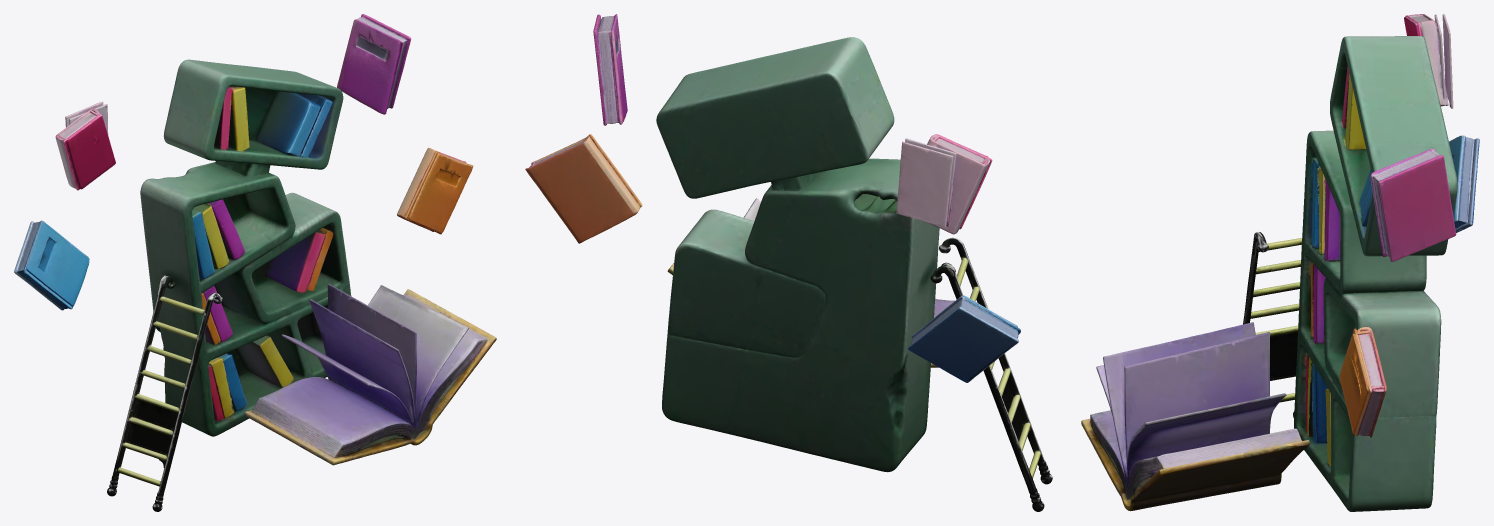
File: home-library.glb
3 renders of one model, left to right at view 1: azimuth 30°, elevation 25°; view 2: azimuth 150°, elevation 25°; view 3: azimuth 270°, elevation 25°, orthographic. The views are drawn at different scales.
Visible parts, largest first — view 1: tripo_part_0, tripo_part_1, tripo_part_4, tripo_part_5, tripo_part_3, tripo_part_6, tripo_part_10, tripo_part_7, tripo_part_2, tripo_part_12, tripo_part_8, tripo_part_9 (+2 smaller); view 2: tripo_part_0, tripo_part_6, tripo_part_3, tripo_part_4, tripo_part_14, tripo_part_7, tripo_part_5, tripo_part_2; view 3: tripo_part_0, tripo_part_1, tripo_part_5, tripo_part_6, tripo_part_4, tripo_part_2, tripo_part_3, tripo_part_7, tripo_part_8, tripo_part_9, tripo_part_11, tripo_part_14 (+1 smaller).
Boxes of the visible parts, left/top/right/bottom form: tripo_part_0: left=140, top=59, right=351, bottom=436; tripo_part_1: left=244, top=283, right=496, bottom=465; tripo_part_4: left=107, top=275, right=222, bottom=511; tripo_part_5: left=337, top=14, right=411, bottom=114; tripo_part_3: left=14, top=220, right=89, bottom=310; tripo_part_6: left=397, top=147, right=473, bottom=234; tripo_part_10: left=255, top=91, right=332, bottom=157; tripo_part_7: left=55, top=104, right=115, bottom=190; tripo_part_2: left=192, top=199, right=245, bottom=278; tripo_part_12: left=265, top=228, right=333, bottom=293; tripo_part_8: left=208, top=353, right=247, bottom=421; tripo_part_9: left=214, top=86, right=249, bottom=151; tripo_part_0: left=656, top=37, right=939, bottom=472; tripo_part_6: left=525, top=134, right=642, bottom=243; tripo_part_3: left=908, top=295, right=1020, bottom=382; tripo_part_4: left=930, top=237, right=1052, bottom=511; tripo_part_14: left=896, top=141, right=953, bottom=227; tripo_part_7: left=905, top=134, right=992, bottom=234; tripo_part_5: left=593, top=14, right=627, bottom=125; tripo_part_2: left=854, top=194, right=897, bottom=213; tripo_part_0: left=1294, top=36, right=1457, bottom=511; tripo_part_1: left=1081, top=322, right=1309, bottom=511; tripo_part_5: left=1370, top=148, right=1456, bottom=261; tripo_part_6: left=1339, top=327, right=1386, bottom=437; tripo_part_4: left=1243, top=232, right=1302, bottom=417; tripo_part_2: left=1311, top=158, right=1340, bottom=261; tripo_part_3: left=1449, top=135, right=1479, bottom=232; tripo_part_7: left=1404, top=14, right=1448, bottom=106; tripo_part_8: left=1305, top=354, right=1327, bottom=443; tripo_part_9: left=1341, top=66, right=1366, bottom=149; tripo_part_11: left=1310, top=262, right=1325, bottom=343; tripo_part_14: left=1442, top=14, right=1453, bottom=108.
Size of the model in its own units: 0.9794 by 0.8134 by 0.6324.
15 materials, 15 textured.
